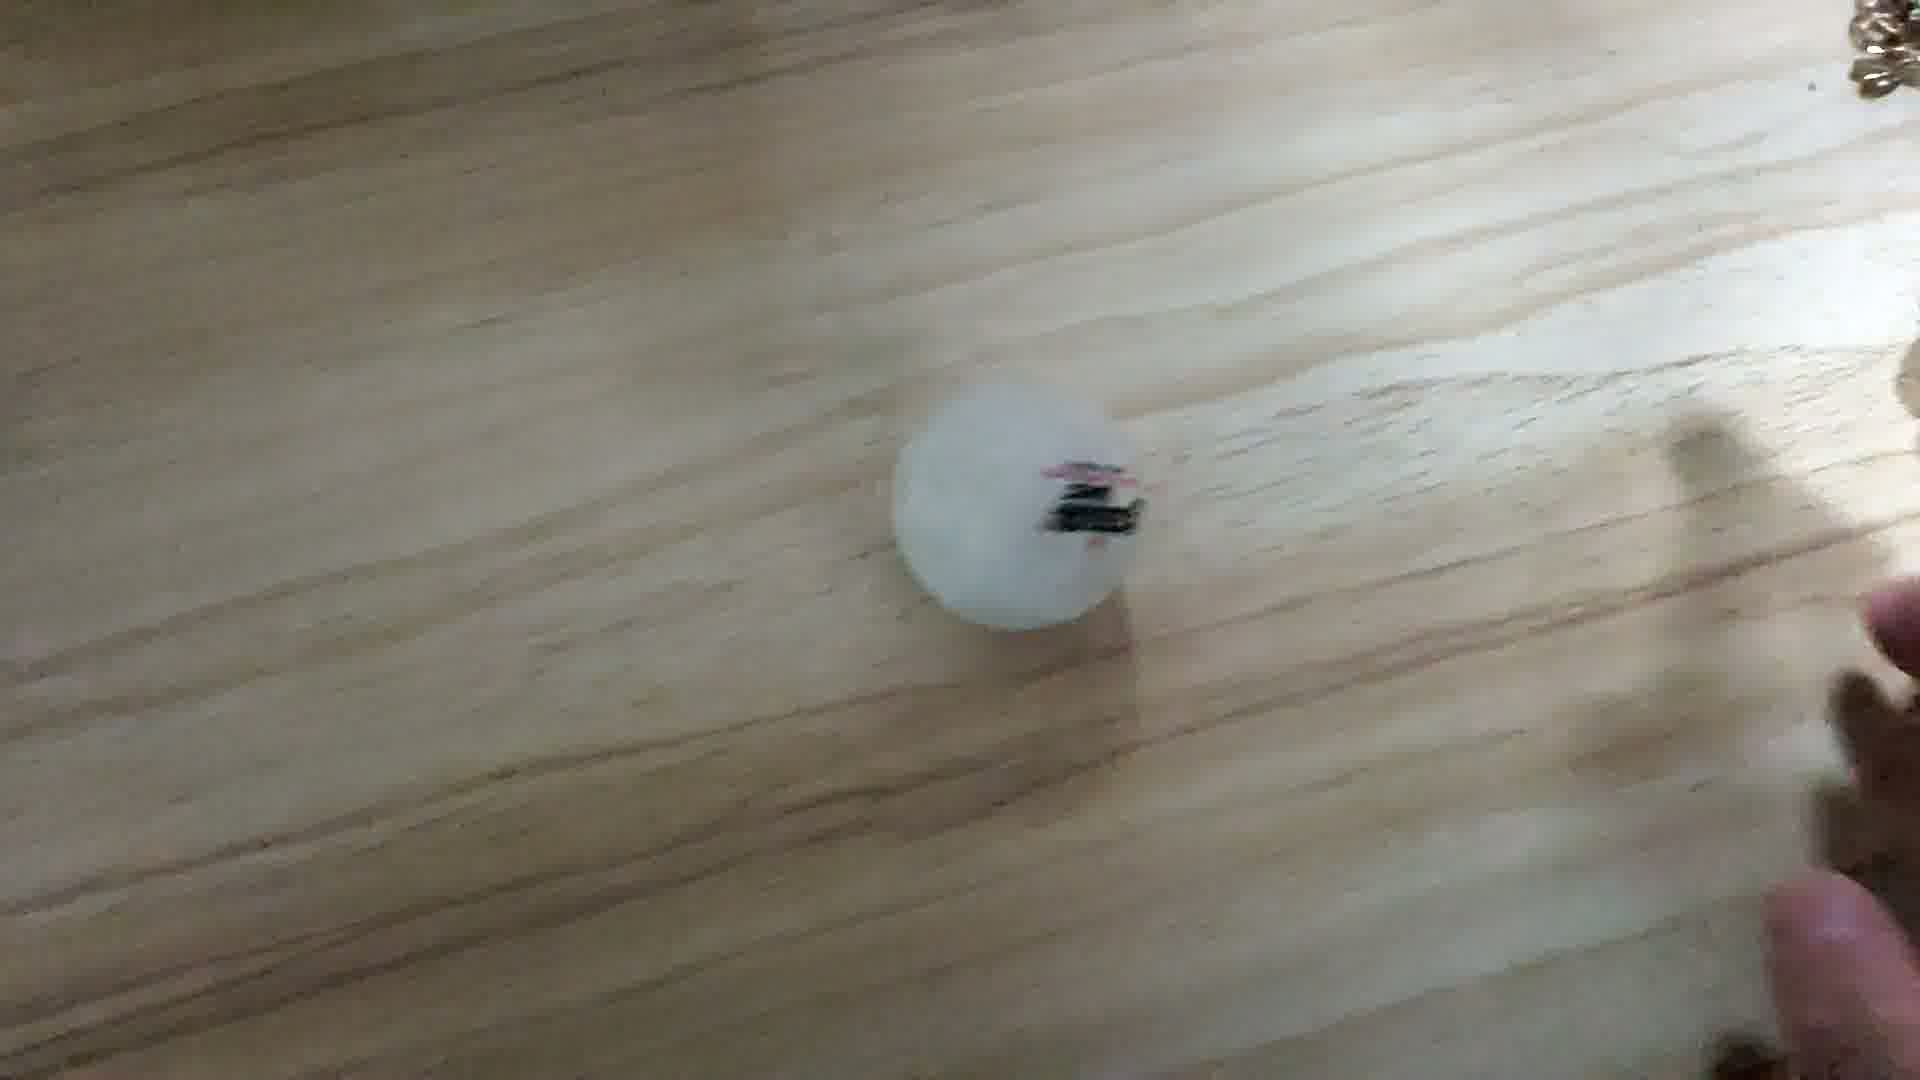Ball: (893, 385, 1159, 632)
